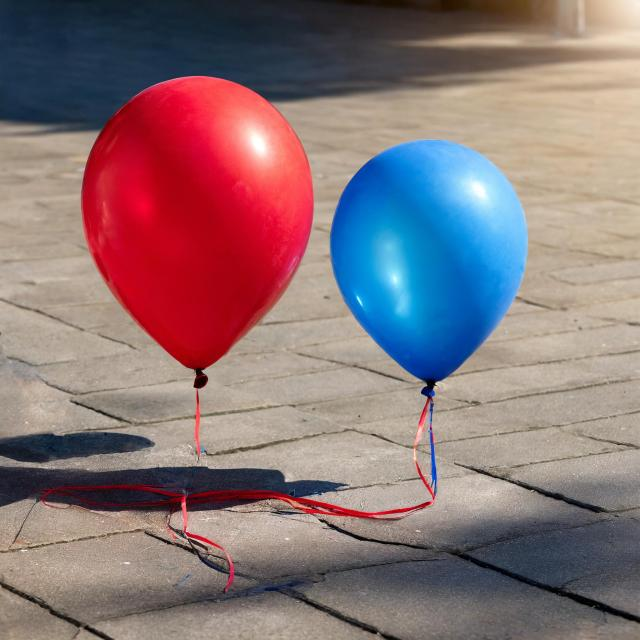blue: (333, 138, 531, 405)
red: (80, 76, 316, 401)
